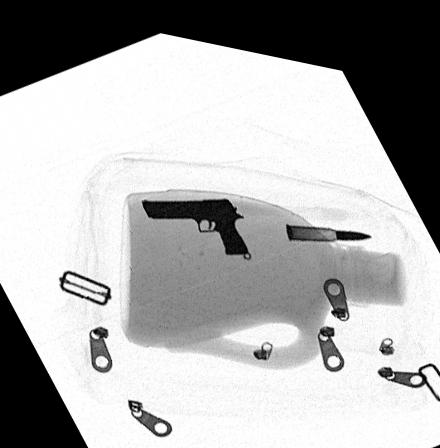Bullet: (284, 213, 370, 228)
Gun: (139, 187, 248, 244)
